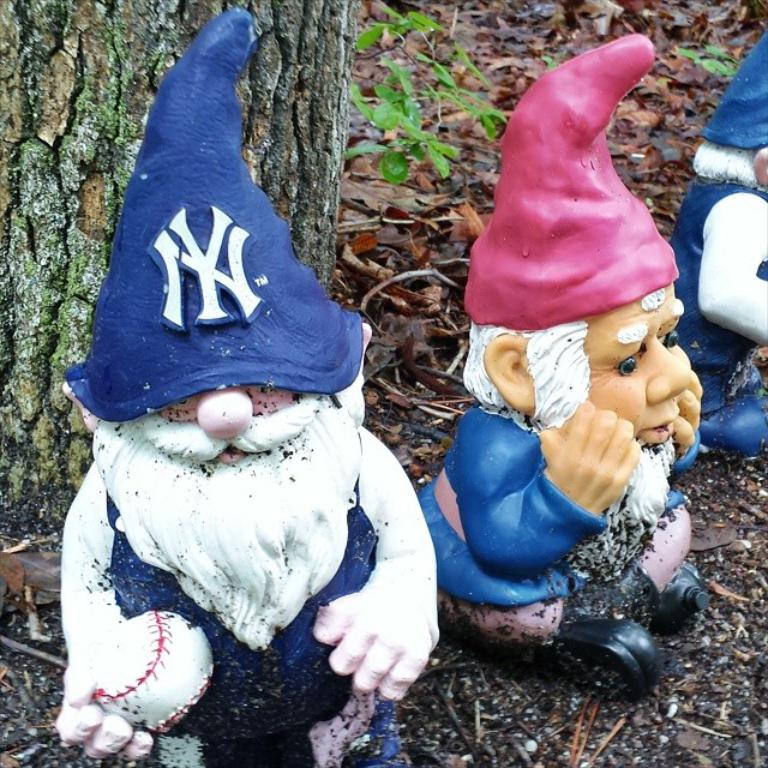Person: (55, 5, 439, 768), (416, 33, 712, 703), (673, 27, 768, 462)
